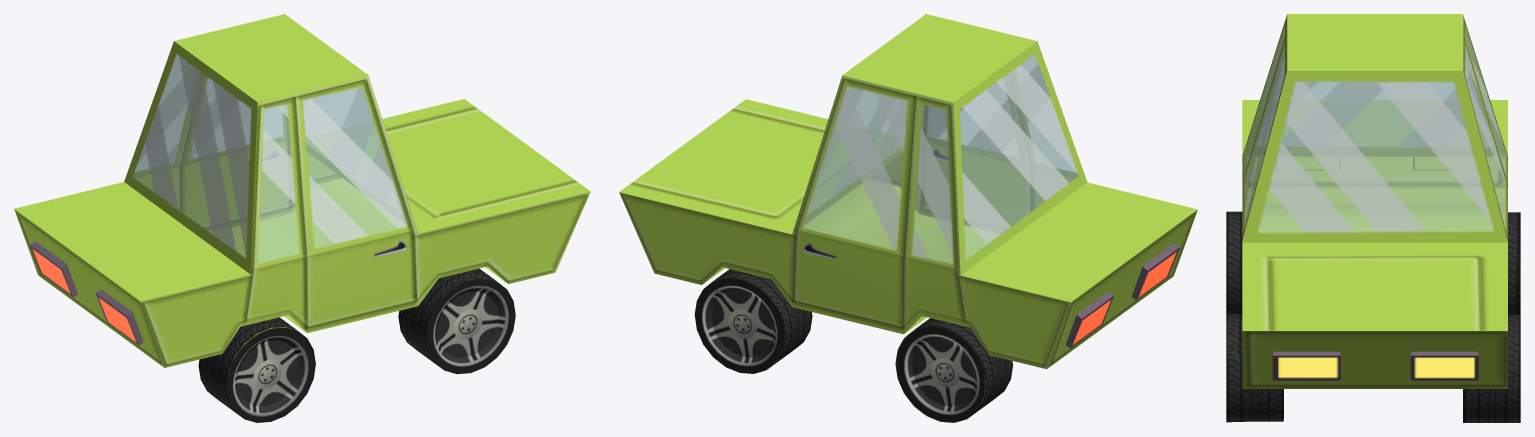
File: coche_cartoon.glb
3 views of the same model, side by side, from view 1: azimuth 30°, elevation 25°; view 2: azimuth 150°, elevation 25°; view 3: azimuth 270°, elevation 25° (orthographic). The views are drawn at different scales.
Parts seen in each view (by area): view 1: polySurface11; view 2: polySurface11; view 3: polySurface11.
Boxes of the visible parts, <box> form: polySurface11: <box>14,14,590,422</box>; polySurface11: <box>619,14,1197,422</box>; polySurface11: <box>1226,14,1520,422</box>.
Bounding box in the file's own units: 0.065 × 0.0406 × 0.035.
Materials: 1 (1 with a texture image).
